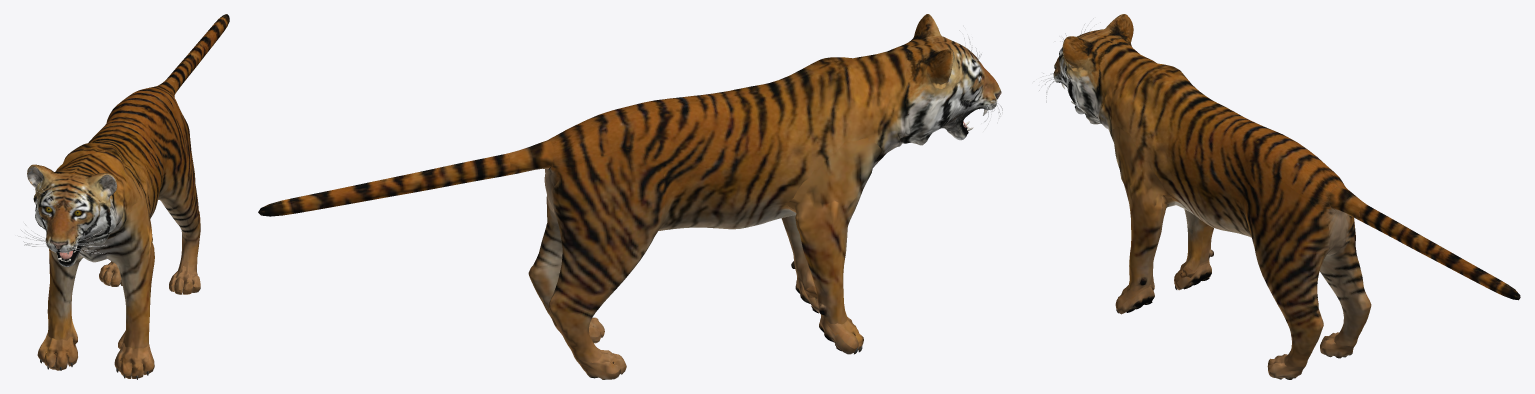
File: Tiger.obj
3 views of the same model, side by side, from view 1: azimuth 30°, elevation 25°; view 2: azimuth 150°, elevation 25°; view 3: azimuth 270°, elevation 25° (orthographic). The views are drawn at different scales.
Parts seen in each view (by area): view 1: (null); view 2: (null); view 3: (null).
Boxes of the visible parts, x1,y1,x2,y2 form: (null): (15, 14, 229, 379); (null): (258, 14, 1002, 379); (null): (1032, 14, 1520, 379).
Bounding box in the file's own units: 3686 × 2028 × 3639.
Materials: 1 (1 with a texture image).
